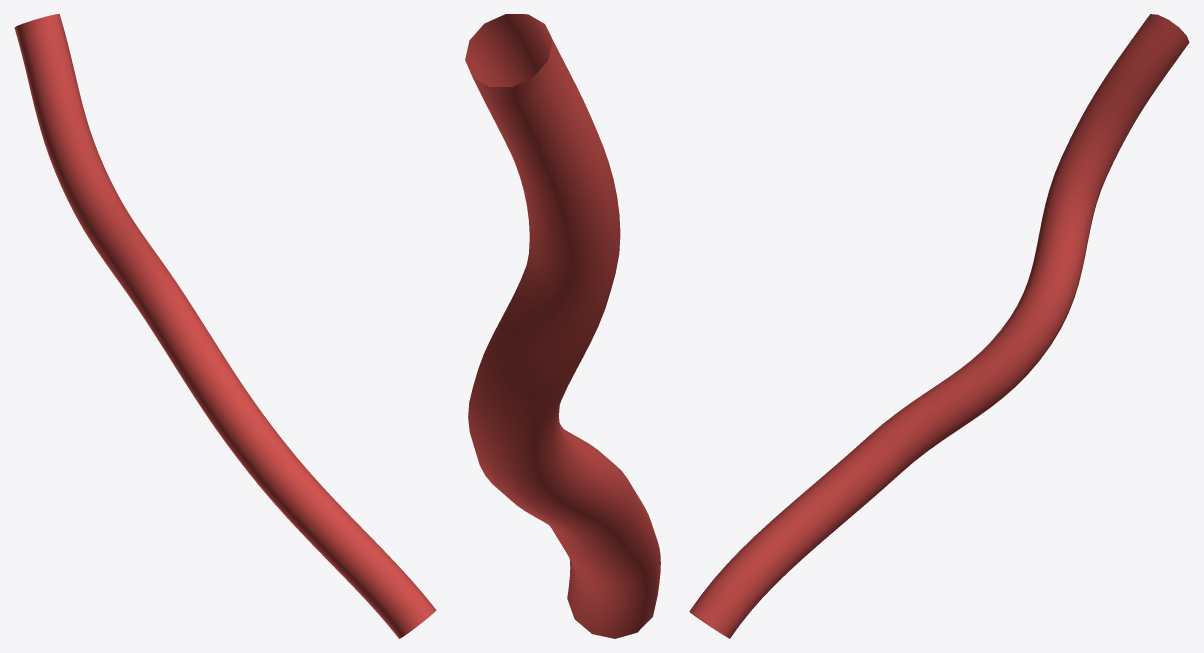
3 views of the same model, side by side, from view 1: azimuth 30°, elevation 25°; view 2: azimuth 150°, elevation 25°; view 3: azimuth 270°, elevation 25° (orthographic). The views are drawn at different scales.
Parts seen in each view (by area): view 1: 右侧足底深动脉; view 2: 右侧足底深动脉; view 3: 右侧足底深动脉.
Part boxes in pixels (x1=…): 右侧足底深动脉: x1=14, y1=14, x2=436, y2=638; 右侧足底深动脉: x1=465, y1=14, x2=660, y2=638; 右侧足底深动脉: x1=689, y1=14, x2=1189, y2=638.
Bounding box in the file's own units: 0.0132 × 0.0315 × 0.0265.
